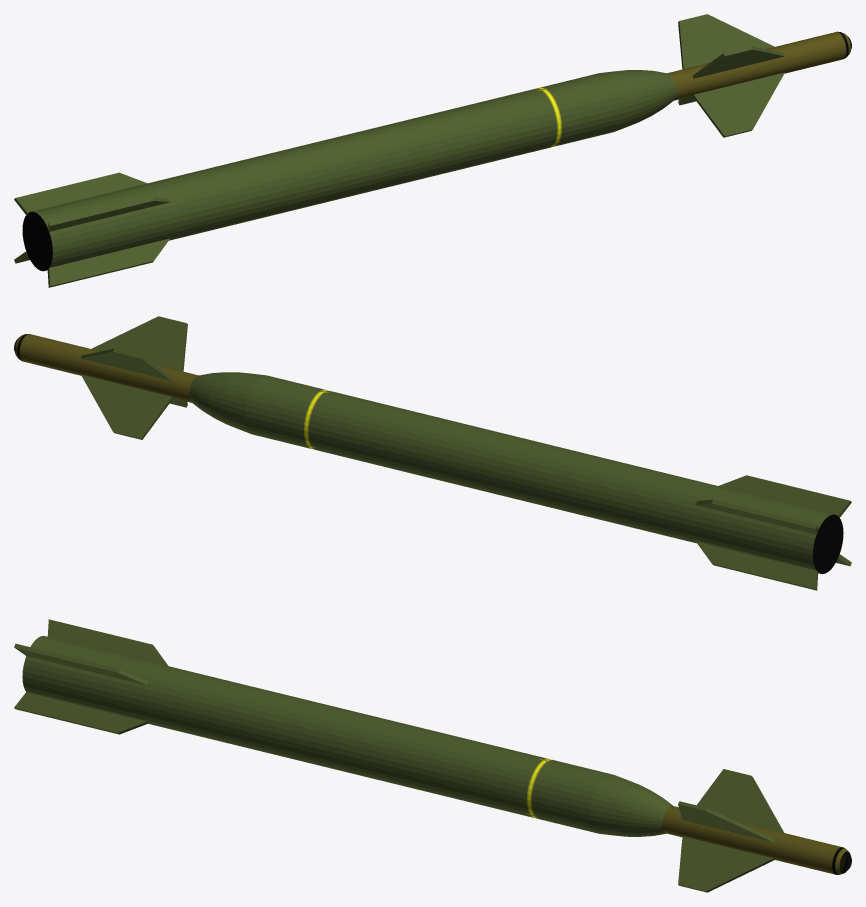
Rendered from b2agbu283.glb.
The picture shows the model from 3 angles, top to bottom: view 1: azimuth 30°, elevation 25°; view 2: azimuth 150°, elevation 25°; view 3: azimuth 330°, elevation 25°; orthographic projection.
Visible parts, largest first — view 1: 円柱.006; view 2: 円柱.006; view 3: 円柱.006.
Part boxes in pixels (x1,y1,x2,y2): 円柱.006: [14, 14, 851, 287]; 円柱.006: [14, 316, 851, 590]; 円柱.006: [14, 619, 851, 892].
Size of the model in its own units: 7.13 by 0.706 by 0.706.
3 materials, 1 textured.
